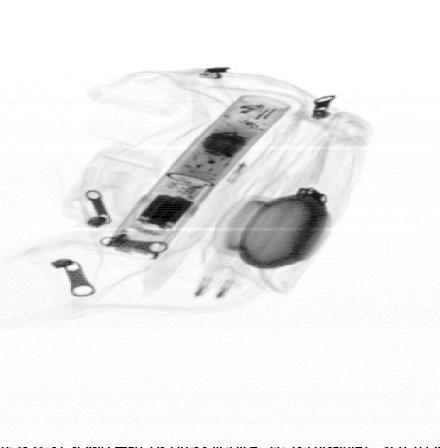Baton: (107, 94, 293, 261)
